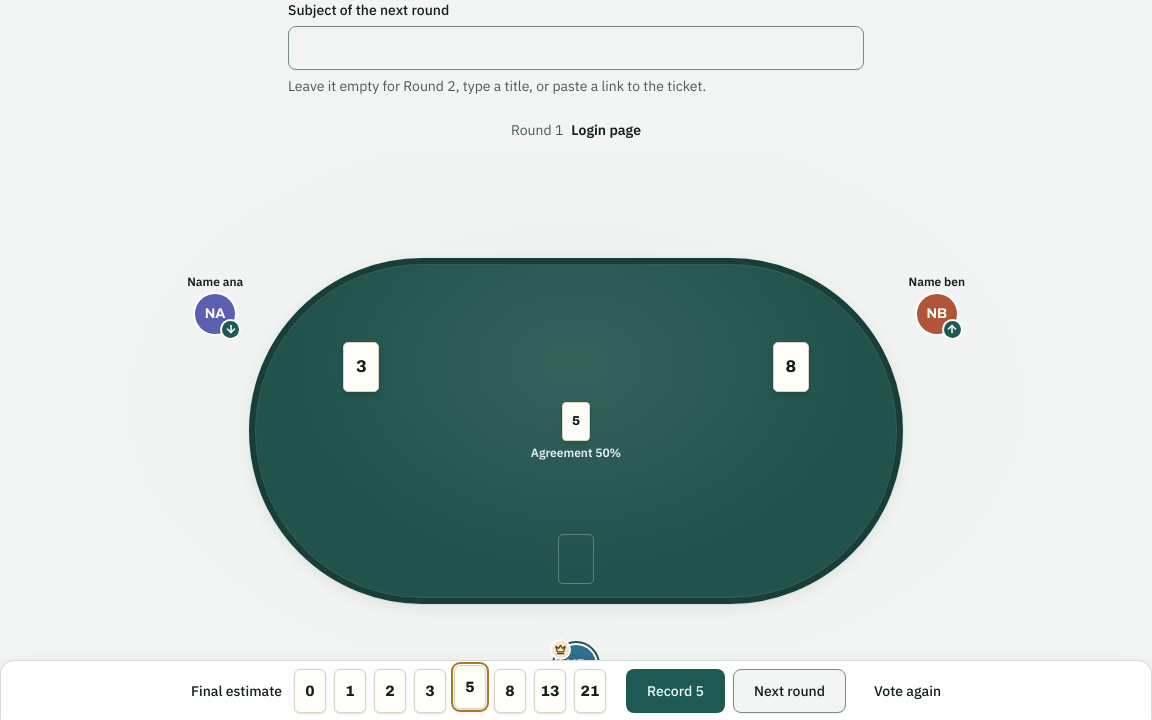
the final estimate (#32) › shows a refused final under the table
The width and height of the screenshot is (1152, 720).
Click the button "Record 5" at (675, 691), box [626,669,725,713]
(page scrolled)
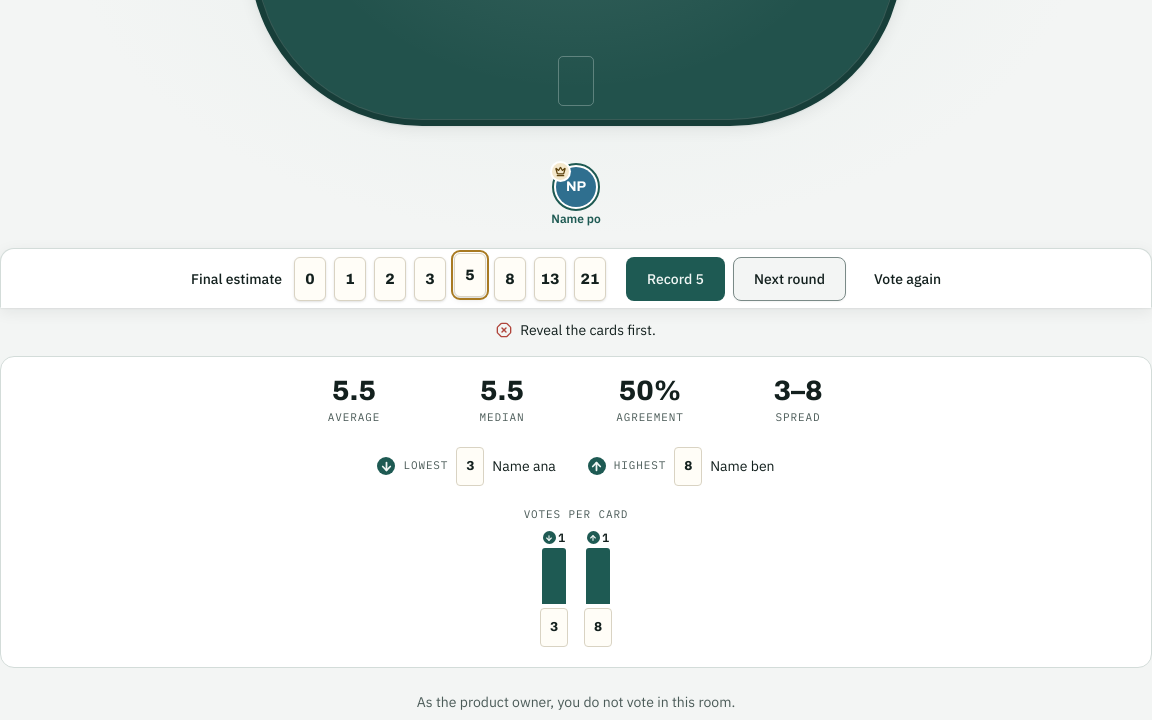
Now the message reads "Reveal the cards first.", box [520,321,656,339]
